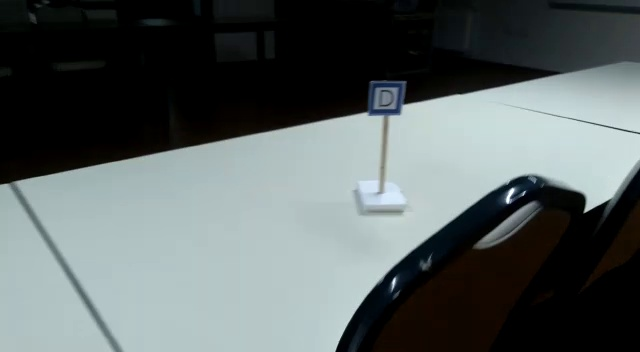durak: (370, 81, 403, 112)
